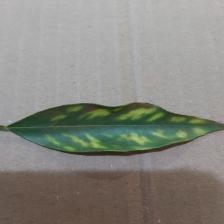greening: (44, 104, 192, 148)
